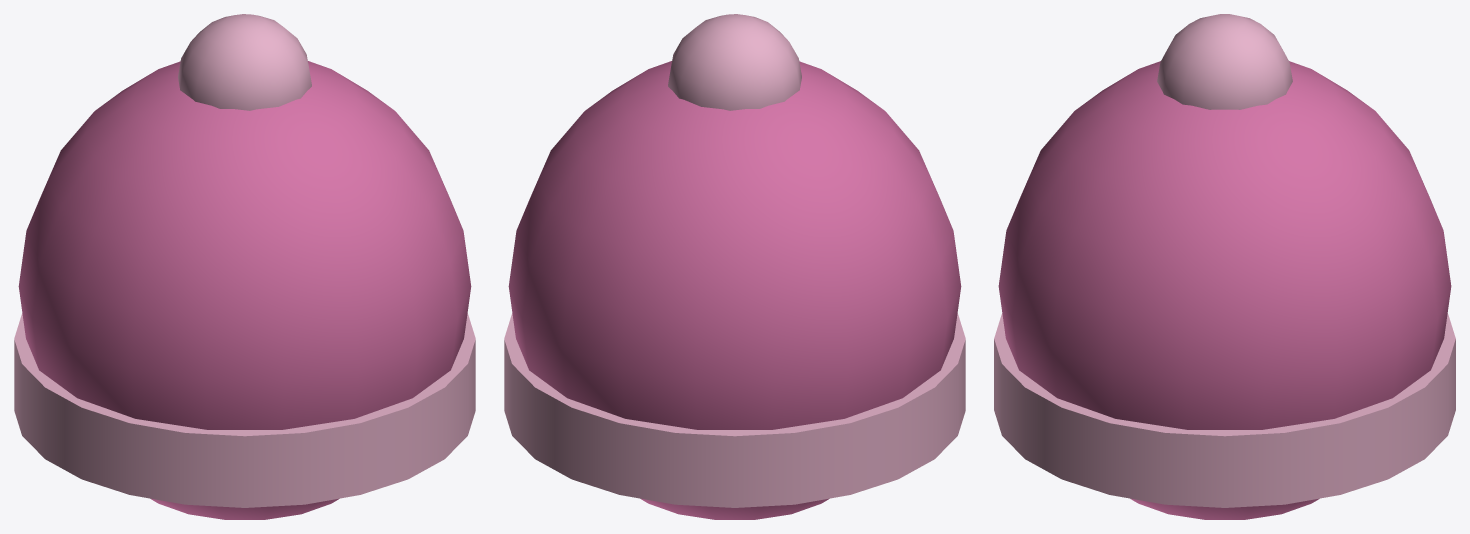
File: VM-CAB-SH40256028.glb
The picture shows the model from 3 angles, left to right: view 1: azimuth 30°, elevation 25°; view 2: azimuth 150°, elevation 25°; view 3: azimuth 270°, elevation 25°; orthographic projection.
Visible parts, largest first — view 1: Gorra de Béisbol con Letras Retro; view 2: Gorra de Béisbol con Letras Retro; view 3: Gorra de Béisbol con Letras Retro.
Boxes of the visible parts, left/top/right/bottom form: Gorra de Béisbol con Letras Retro: left=14, top=14, right=475, bottom=519; Gorra de Béisbol con Letras Retro: left=504, top=14, right=965, bottom=519; Gorra de Béisbol con Letras Retro: left=994, top=14, right=1455, bottom=519.
Bounding box in the file's own units: 0.2248 × 0.259 × 0.2248.
